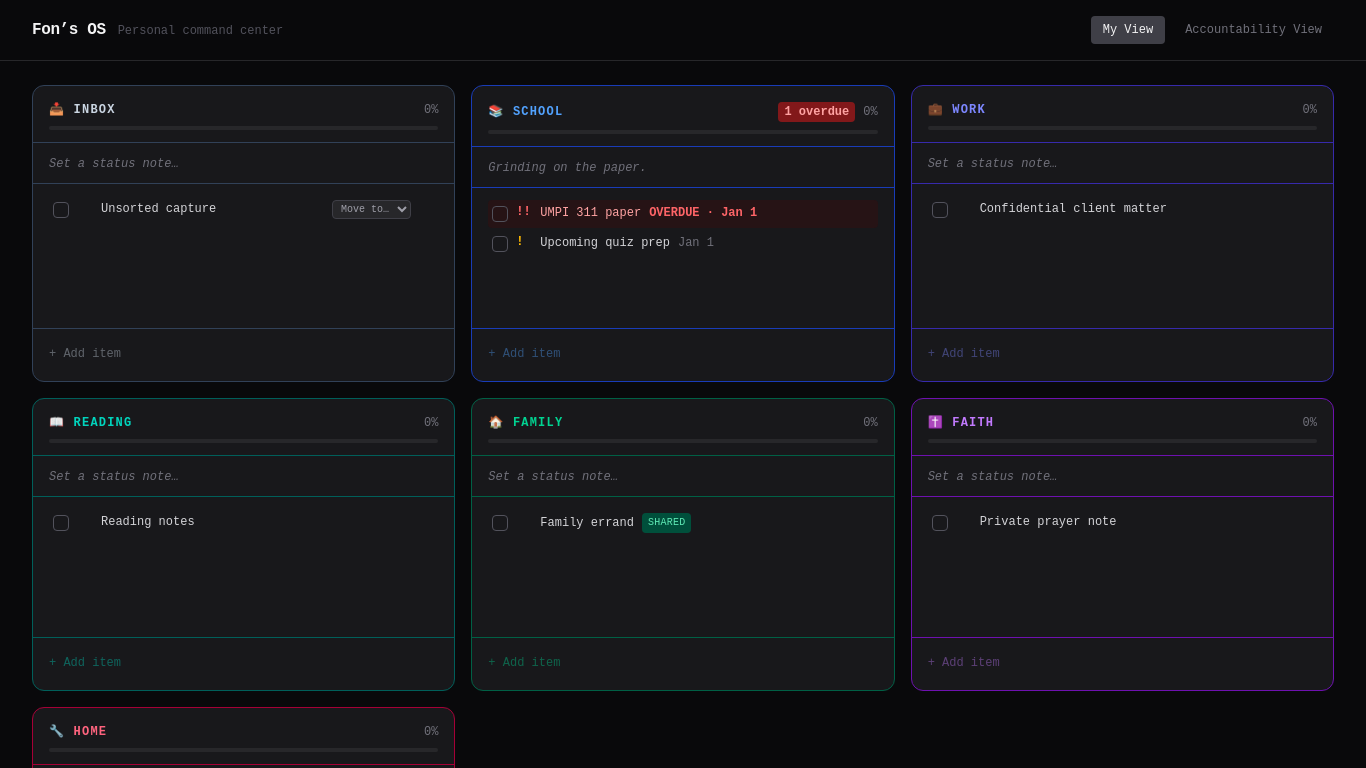
Test: Accountability View › shows the School summary: progress, priorities, deadlines and overdue
This screenshot has width=1366, height=768.
Click the button "Accountability View" at (1254, 30), box top-left (1173, 16), bottom-right (1334, 44)
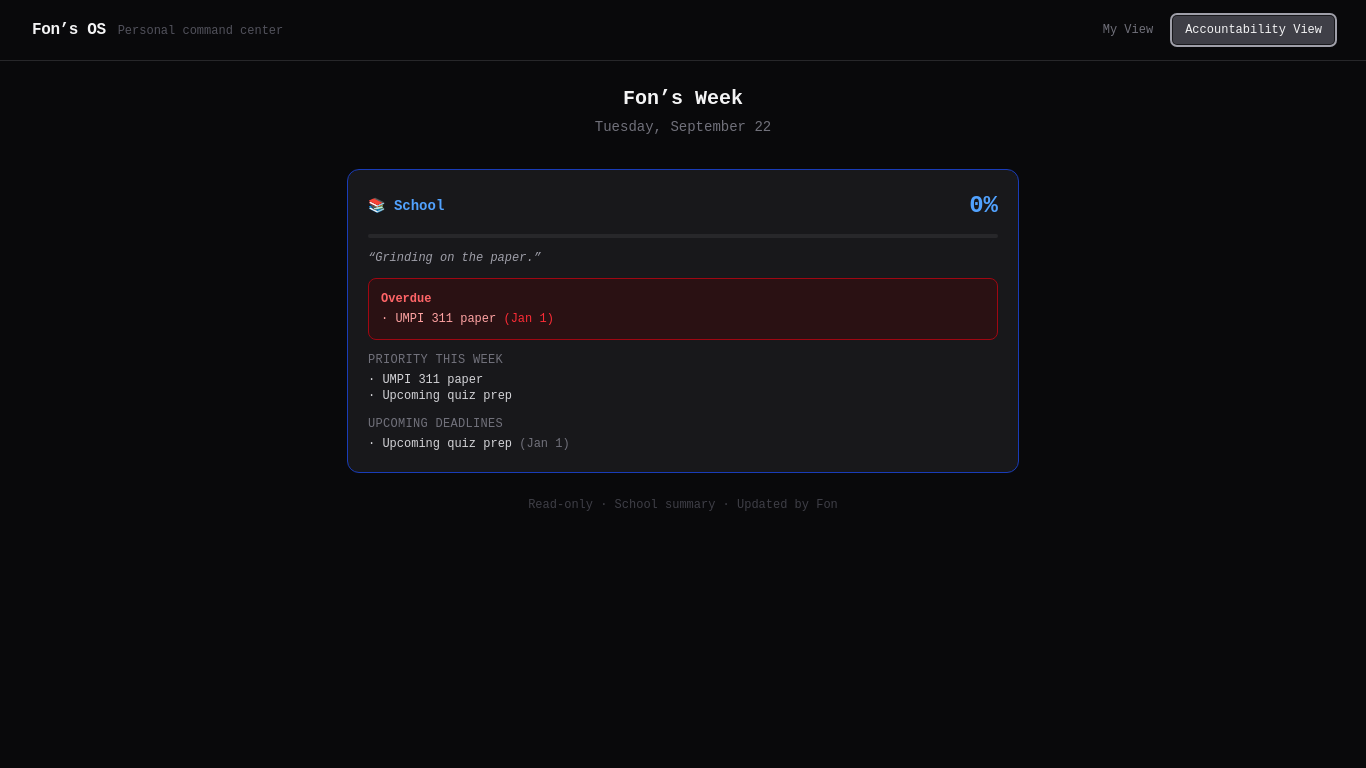
Now the text "“Grinding on the paper.”" is shown, box top-left (368, 251), bottom-right (541, 265)
Now the heading "Priority this week" is shown, box top-left (368, 353), bottom-right (503, 367)
Now the heading "Upcoming deadlines" is shown, box top-left (368, 417), bottom-right (503, 431)
